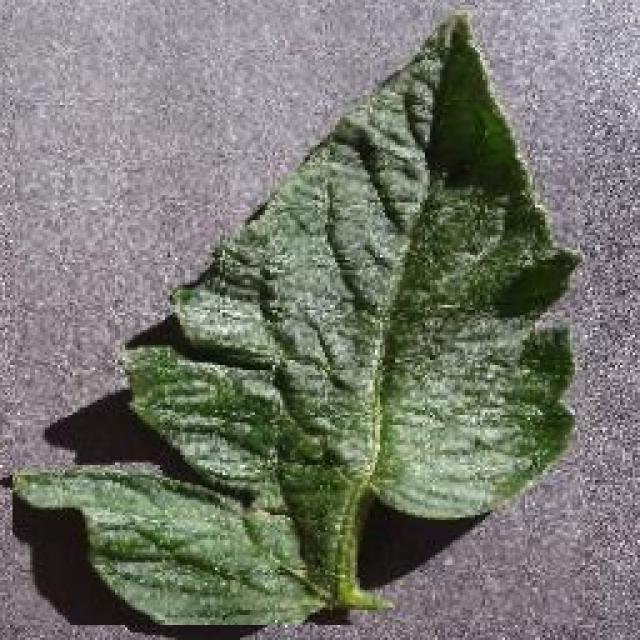Healthy: (13, 0, 585, 625)
